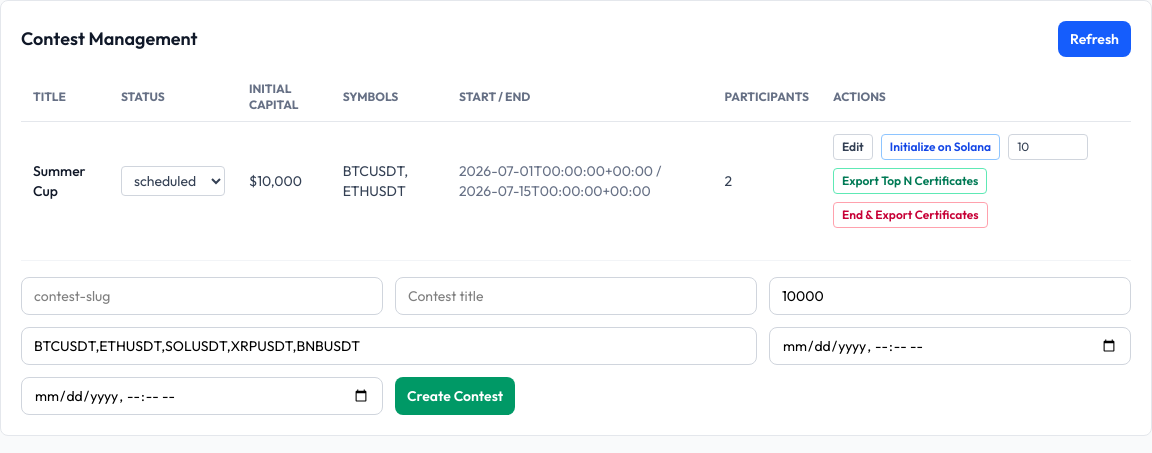
Test case: TabContests › initializes a contest on Solana from the admin table
The width and height of the screenshot is (1152, 453).
Click the button with test id "initialize-onchain-summer-cup": point(940, 147) [881, 134, 1000, 160]
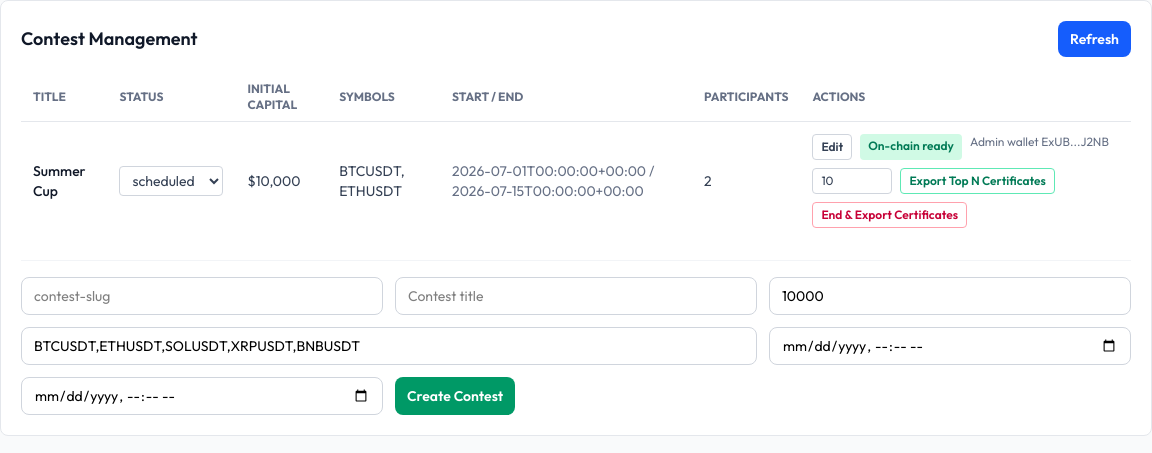
Expected: the text "On-chain ready" is shown, [860, 134, 962, 160]
Expected: the text "ExUB...J2NB" is shown, [970, 134, 1109, 149]
